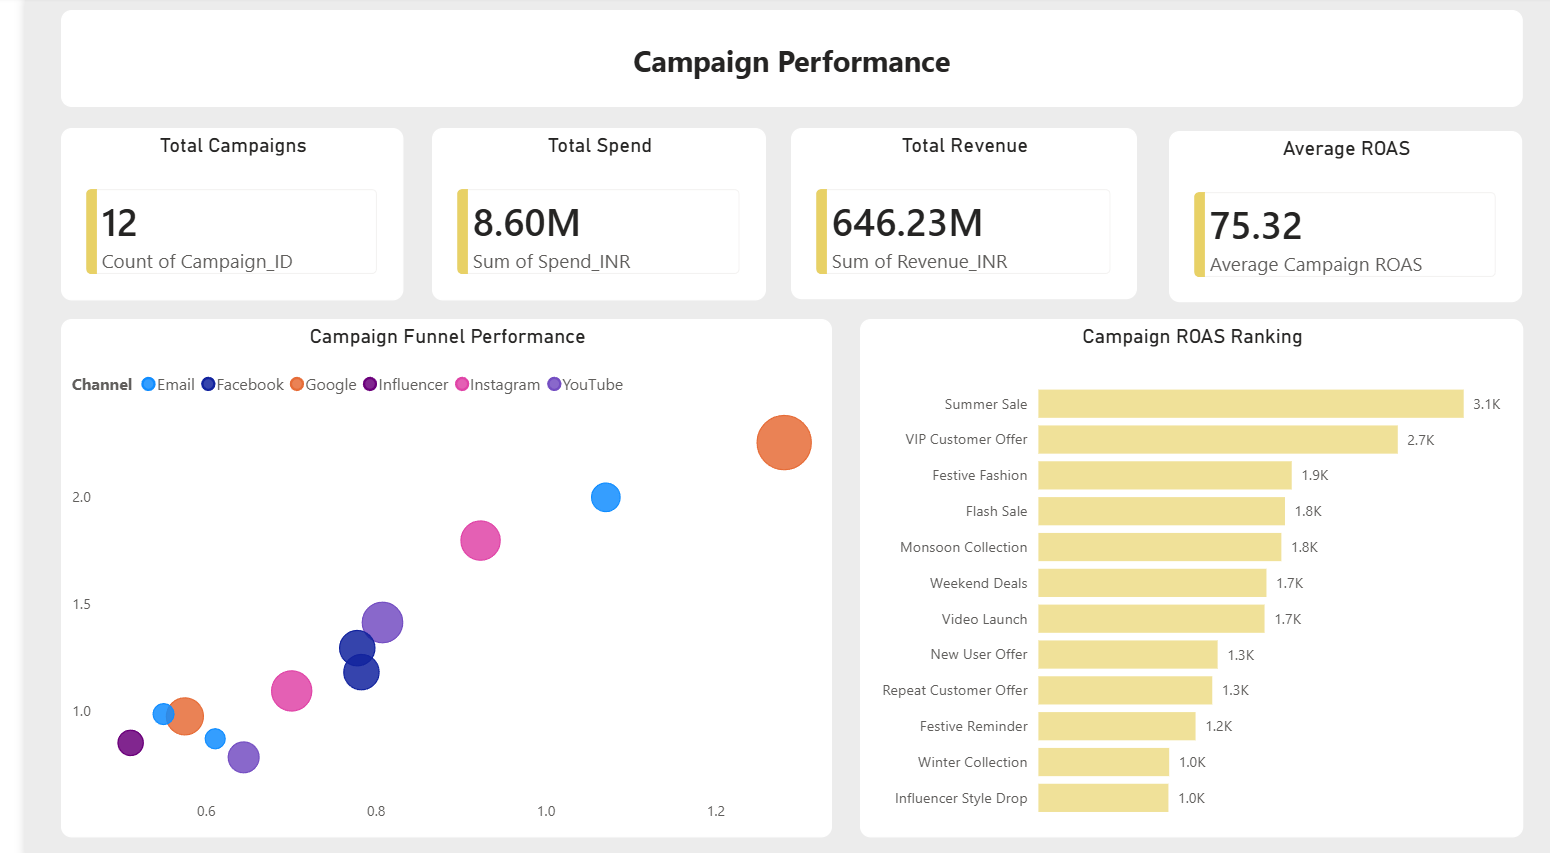

This screenshot's page, from the dashboard's own definition file:
{"tool":"powerbi","page":{"name":"Campaign Performance 1","canvas":[1280,720],"ordinal":1},"visuals":[{"type":"cardVisual","title":"Total Campaigns","fields":{"Data":["Count(marketing_campaign marketing_analytics.Campaign_ID)"]},"box":[30.2,109.8,285.9,143.6],"z":0},{"type":"cardVisual","title":"Total Spend","fields":{"Data":["Sum(marketing_campaign marketing_analytics.Spend_INR)"]},"box":[340.2,109.8,278.7,143.6],"z":1000},{"type":"cardVisual","title":"Total Revenue","fields":{"Data":["Sum(marketing_campaign marketing_analytics.Revenue_INR)"]},"box":[639.4,109.8,288.6,143.1],"z":2000},{"type":"cardVisual","title":"Average ROAS","fields":{"Data":["marketing_campaign marketing_analytics.Average Campaign ROAS"]},"box":[955.5,112.2,294.7,143.1],"z":3000},{"type":"barChart","title":"Campaign ROAS Ranking","fields":{"Category":["marketing_campaign marketing_analytics.Campaign_Name"],"Y":["Sum(marketing_campaign marketing_analytics.ROAS)"]},"box":[697.3,269,553.8,433.1],"z":4000},{"type":"scatterChart","title":"Campaign Funnel Performance","fields":{"Category":["marketing_campaign marketing_analytics.Campaign_Name"],"Series":["marketing_campaign marketing_analytics.Channel"],"Size":["Sum(marketing_campaign marketing_analytics.Revenue_INR)"],"X":["Sum(marketing_campaign marketing_analytics.CTR)"],"Y":["Sum(marketing_campaign marketing_analytics.Conversion_Rate)"]},"box":[30.2,269,644.2,433.1],"z":5000},{"type":"textbox","box":[30.2,10.9,1220.9,80.8],"z":6000}]}

Visuals, with their boxes in screenshot pixels (x1, y1, x2, y2), scaled from the page's 1280x720 canvas onto the 1550x853 screenshot:
"Total Campaigns" cardVisual: BBox(37, 130, 383, 300)
"Total Spend" cardVisual: BBox(412, 130, 749, 300)
"Total Revenue" cardVisual: BBox(774, 130, 1124, 300)
"Average ROAS" cardVisual: BBox(1157, 133, 1514, 302)
"Campaign ROAS Ranking" barChart: BBox(844, 319, 1515, 832)
"Campaign Funnel Performance" scatterChart: BBox(37, 319, 817, 832)
textbox: BBox(37, 13, 1515, 109)
